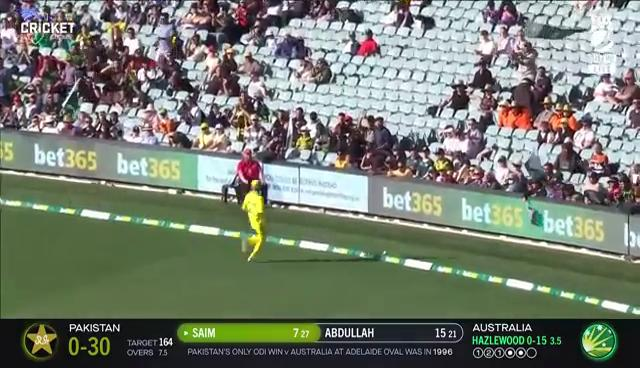ball: (382, 249, 389, 255)
